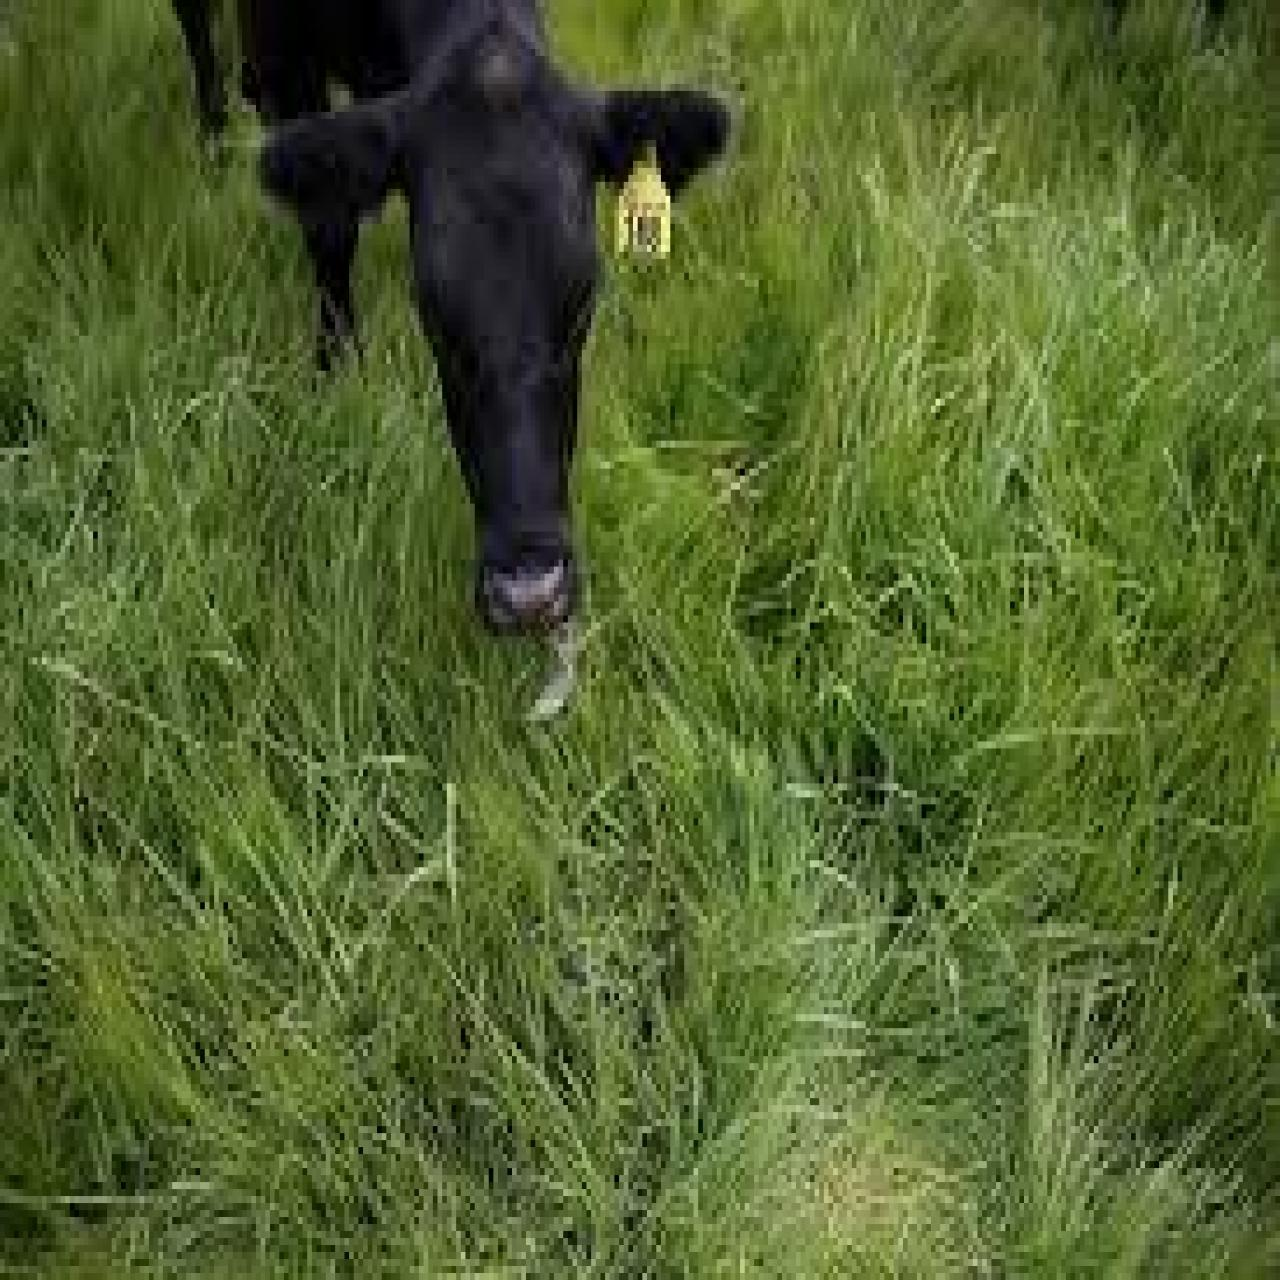cow: (165, 0, 729, 636)
